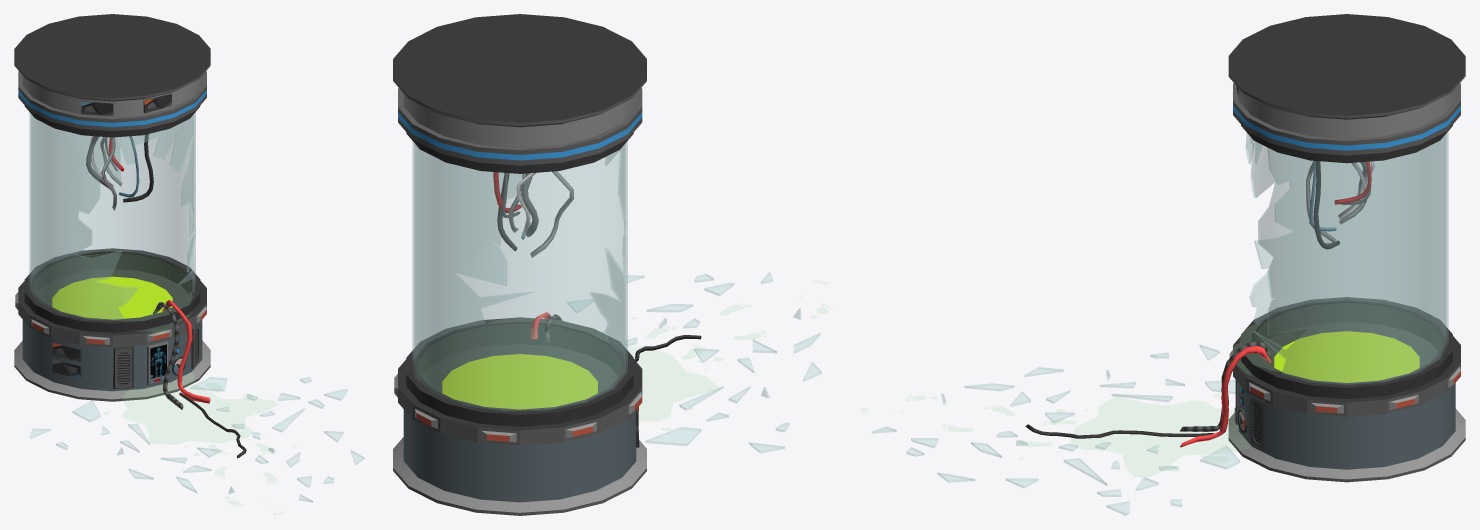
Rendered from Human_Tank_Broken.fbx.
3 renders of one model, left to right at view 1: azimuth 30°, elevation 25°; view 2: azimuth 150°, elevation 25°; view 3: azimuth 270°, elevation 25°, orthographic. The views are drawn at different scales.
Visible parts, largest first — view 1: Human_Tank_Broken; view 2: Human_Tank_Broken; view 3: Human_Tank_Broken.
Boxes of the visible parts, x1,y1,x2,y2 form: Human_Tank_Broken: [14, 14, 364, 515]; Human_Tank_Broken: [393, 14, 831, 515]; Human_Tank_Broken: [862, 14, 1465, 515].
Size of the model in its own units: 369 by 373 by 556.
